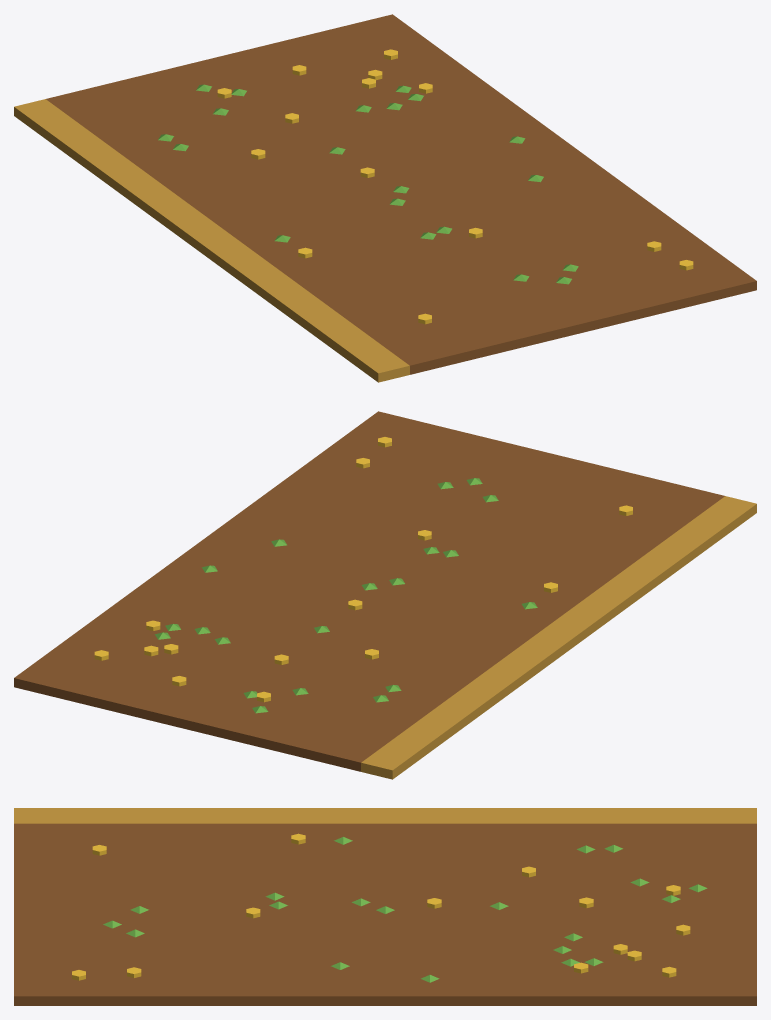
File: env_r10_verge.glb
3 views of the same model, one above another, from view 1: azimuth 30°, elevation 25°; view 2: azimuth 150°, elevation 25°; view 3: azimuth 270°, elevation 25° (orthographic).
Parts seen in each view (by area): view 1: env_r10_verge; view 2: env_r10_verge; view 3: env_r10_verge.
Part boxes in pixels (<box>): env_r10_verge: <box>14,14,756,382</box>; env_r10_verge: <box>14,411,756,779</box>; env_r10_verge: <box>14,808,756,1005</box>.
Bounding box in the file's own units: 6 × 0.2 × 10.
1 material, 1 textured.
